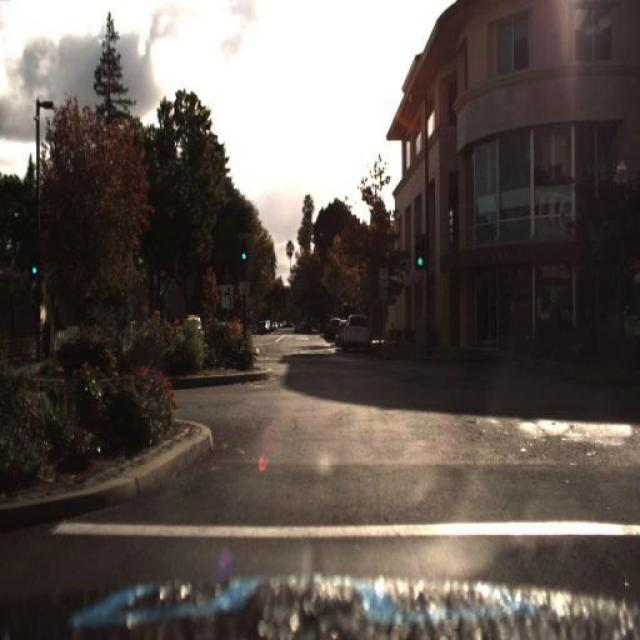semaforo: (414, 232, 426, 269), (30, 245, 41, 277)
